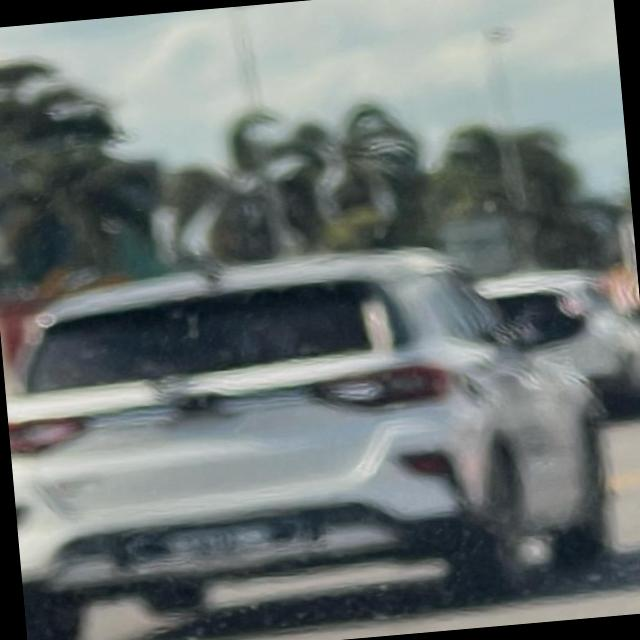PeroduaAtiva: (0, 226, 627, 640)
